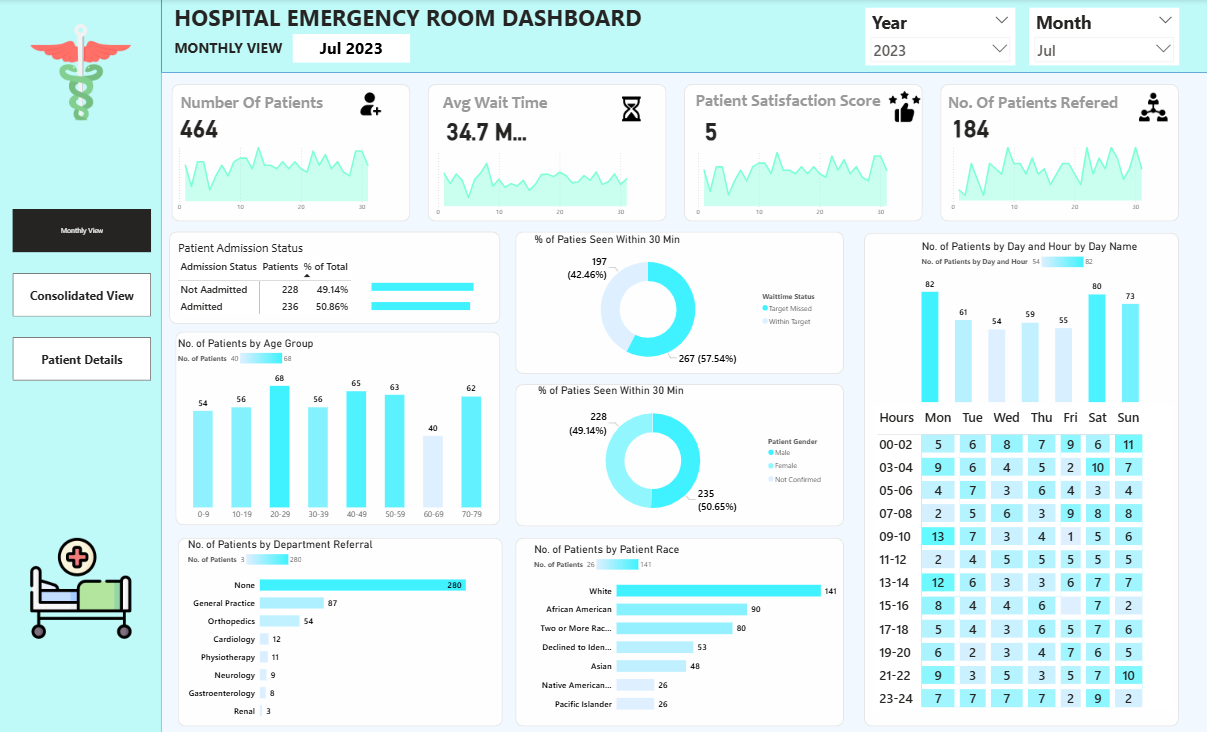

The page's visual inventory and layout, read from the dashboard file:
{"tool":"powerbi","page":{"name":"Monthly View","canvas":[2300,1400],"ordinal":0},"visuals":[{"type":"shape","box":[0,0,309.1,1400.5],"z":0},{"type":"shape","box":[310,0,1990,140],"z":1000},{"type":"textbox","box":[327.5,0,977.5,85],"z":2000},{"type":"shape","box":[328.1,161.7,454.1,261.6],"z":3000},{"type":"textbox","box":[327.5,70,330,72.5],"z":4000},{"type":"card","fields":{"Values":["Hospital ER_Data.No. of Patients"]},"box":[323.4,206.9,114.1,71.3],"z":5000},{"type":"slicer","fields":{"Values":["Date Table.Year"]},"box":[1647.8,16.6,285.3,109.4],"z":6000},{"type":"slicer","fields":{"Values":["Date Table.Month Name"]},"box":[1959.2,16.6,285.3,109.4],"z":7000},{"type":"textbox","box":[340,171.2,330.5,71.3],"z":8000},{"type":"areaChart","fields":{"Category":["Date Table.Date.Variation.Date Hierarchy.Day"],"Y":["Hospital ER_Data.No. of Patients"]},"box":[328.1,268.7,435.1,145],"z":9000},{"type":"card","fields":{"Values":["Min(Date Table.Month & Year)"]},"box":[558.8,66.6,223.5,54.7],"z":10000},{"type":"shape","box":[815.6,161.7,454.1,261.6],"z":11000},{"type":"card","fields":{"Values":["Hospital ER_Data.Avg Wait Time"]},"box":[844.1,216.4,166.4,61.8],"z":12000},{"type":"textbox","box":[832.2,171.2,330.5,71.3],"z":13000},{"type":"areaChart","fields":{"Category":["Date Table.Date.Variation.Date Hierarchy.Day"],"Y":["Avg(Hospital ER_Data.Patient Waittime)"]},"box":[821.3,278.7,435.1,145],"z":14000},{"type":"shape","box":[1303,161.7,454.1,261.6],"z":15000},{"type":"card","fields":{"Values":["Hospital ER_Data.Satisfaction Score"]},"box":[1305.4,206.9,97.5,83.2],"z":16000},{"type":"textbox","box":[1319.6,168.8,413.7,54.7],"z":17000},{"type":"areaChart","fields":{"Category":["Date Table.Date.Variation.Date Hierarchy.Day"],"Y":["Hospital ER_Data.No. of Patients"]},"box":[1313.9,278.7,435.1,145],"z":18000},{"type":"shape","box":[1790.4,161.7,454.1,261.6],"z":19000},{"type":"card","fields":{"Values":["Hospital ER_Data.No. of Patient Referred"]},"box":[1790.4,206.9,114.1,71.3],"z":20000},{"type":"textbox","box":[1799.9,171.2,394.7,71.3],"z":21000},{"type":"shape","box":[323.4,442.3,630.1,176],"z":22000},{"type":"areaChart","fields":{"Category":["Date Table.Date.Variation.Date Hierarchy.Day"],"Y":["Hospital ER_Data.No. of Patient Referred"]},"box":[1799.9,268.7,435.1,145],"z":23000},{"type":"pivotTable","title":"Patient Admission Status","fields":{"Rows":["Hospital ER_Data.Admission Status"],"Values":["Hospital ER_Data.No. of Patients1","Hospital ER_Data.No. of Patients"]},"box":[335.3,458.9,575.4,159.3],"z":24000},{"type":"barChart","fields":{"Category":["Hospital ER_Data.Admission Status"],"Y":["Hospital ER_Data.No. of Patients"]},"box":[703.8,508.8,256.8,109.4],"z":25000},{"type":"shape","box":[335.3,632.5,618.2,368.5],"z":26000},{"type":"shape","box":[340,1024.8,618.2,359],"z":27000},{"type":"clusteredColumnChart","fields":{"Category":["Hospital ER_Data.Age Group"],"Y":["Hospital ER_Data.No. of Patients"]},"box":[335.3,642,618.2,359],"z":28000},{"type":"clusteredBarChart","fields":{"Category":["Hospital ER_Data.Department Referral"],"Y":["Hospital ER_Data.No. of Patients"]},"box":[354.3,1024.8,573,359],"z":29000},{"type":"shape","box":[982,442.3,625.3,271.1],"z":30000},{"type":"donutChart","title":"% of Paties Seen Within 30 Min","fields":{"Category":["Hospital ER_Data.Waittime Status"],"Y":["Hospital ER_Data.No. of Patients"]},"box":[1012.9,444.6,558.8,268.7],"z":31000},{"type":"shape","box":[982,732.3,625.3,271.1],"z":32000},{"type":"donutChart","title":"% of Paties Seen Within 30 Min","fields":{"Y":["Hospital ER_Data.No. of Patients"],"Category":["Hospital ER_Data.Patient Gender"]},"box":[1020,732.3,558.8,268.7],"z":33000},{"type":"shape","box":[982,1024.8,625.3,359],"z":34000},{"type":"clusteredBarChart","fields":{"Category":["Hospital ER_Data.Patient Race"],"Y":["Hospital ER_Data.No. of Patients"]},"box":[1012.9,1034.3,594.4,337.6],"z":35000},{"type":"shape","box":[1645.4,444.6,599.2,939.2],"z":36000},{"type":"pivotTable","fields":{"Columns":["Date Table.Day Name"],"Rows":["Hospital ER_Data.WaitTime Interval"],"Values":["Hospital ER_Data.No. of Patients"]},"box":[1664.4,772.8,570.7,580.2],"z":37000},{"type":"columnChart","fields":{"Category":["Date Table.Day Name"],"Y":["Hospital ER_Data.No. of Patients"]},"box":[1750,458.9,425.6,313.9],"z":38000},{"type":"pageNavigator","box":[26.2,399.5,263.9,328.1],"z":39000},{"type":"image","box":[49.9,47.6,211.6,183.1],"z":40000},{"type":"image","box":[672.5,175,65,47.5],"z":41000},{"type":"image","box":[1180,185,47.5,47.5],"z":42000},{"type":"image","box":[1688.2,168.8,69,71.3],"z":43000},{"type":"image","box":[2166.1,178.3,59.4,54.7],"z":44000},{"type":"image","box":[59.4,1003.4,192.6,235.4],"z":45000}]}

Visuals, with their boxes in screenshot pixels (x1, y1, x2, y2), scaled from the page's 2300x1400 canvas onto the 1207x732 screenshot:
shape: <box>0,0,162,731</box>
shape: <box>163,0,1206,73</box>
textbox: <box>172,0,685,44</box>
shape: <box>172,85,410,221</box>
textbox: <box>172,37,345,75</box>
card - Hospital ER_Data.No. of Patients: <box>170,108,230,145</box>
slicer - Date Table.Year: <box>865,9,1014,66</box>
slicer - Date Table.Month Name: <box>1028,9,1178,66</box>
textbox: <box>178,90,352,127</box>
areaChart - Date Table.Date.Variation.Date Hierarchy.Day x Hospital ER_Data.No. of Patients: <box>172,140,401,216</box>
card - Min(Date Table.Month & Year): <box>293,35,411,63</box>
shape: <box>428,85,666,221</box>
card - Hospital ER_Data.Avg Wait Time: <box>443,113,530,145</box>
textbox: <box>437,90,610,127</box>
areaChart - Date Table.Date.Variation.Date Hierarchy.Day x Avg(Hospital ER_Data.Patient Waittime): <box>431,146,659,222</box>
shape: <box>684,85,922,221</box>
card - Hospital ER_Data.Satisfaction Score: <box>685,108,736,152</box>
textbox: <box>693,88,910,117</box>
areaChart - Date Table.Date.Variation.Date Hierarchy.Day x Hospital ER_Data.No. of Patients: <box>690,146,918,222</box>
shape: <box>940,85,1178,221</box>
card - Hospital ER_Data.No. of Patient Referred: <box>940,108,999,145</box>
textbox: <box>945,90,1152,127</box>
shape: <box>170,231,500,323</box>
areaChart - Date Table.Date.Variation.Date Hierarchy.Day x Hospital ER_Data.No. of Patient Referred: <box>945,140,1173,216</box>
"Patient Admission Status" pivotTable: <box>176,240,478,323</box>
barChart - Hospital ER_Data.Admission Status x Hospital ER_Data.No. of Patients: <box>369,266,504,323</box>
shape: <box>176,331,500,523</box>
shape: <box>178,536,503,724</box>
clusteredColumnChart - Hospital ER_Data.Age Group x Hospital ER_Data.No. of Patients: <box>176,336,500,523</box>
clusteredBarChart - Hospital ER_Data.Department Referral x Hospital ER_Data.No. of Patients: <box>186,536,487,724</box>
shape: <box>515,231,843,373</box>
"% of Paties Seen Within 30 Min" donutChart: <box>532,232,825,373</box>
shape: <box>515,383,843,525</box>
"% of Paties Seen Within 30 Min" donutChart: <box>535,383,829,523</box>
shape: <box>515,536,843,724</box>
clusteredBarChart - Hospital ER_Data.Patient Race x Hospital ER_Data.No. of Patients: <box>532,541,843,717</box>
shape: <box>863,232,1178,724</box>
pivotTable - Date Table.Day Name x Hospital ER_Data.WaitTime Interval: <box>873,404,1173,707</box>
columnChart - Date Table.Day Name x Hospital ER_Data.No. of Patients: <box>918,240,1142,404</box>
pageNavigator: <box>14,209,152,380</box>
image: <box>26,25,137,121</box>
image: <box>353,92,387,116</box>
image: <box>619,97,644,122</box>
image: <box>886,88,922,126</box>
image: <box>1137,93,1168,122</box>
image: <box>31,525,132,648</box>
